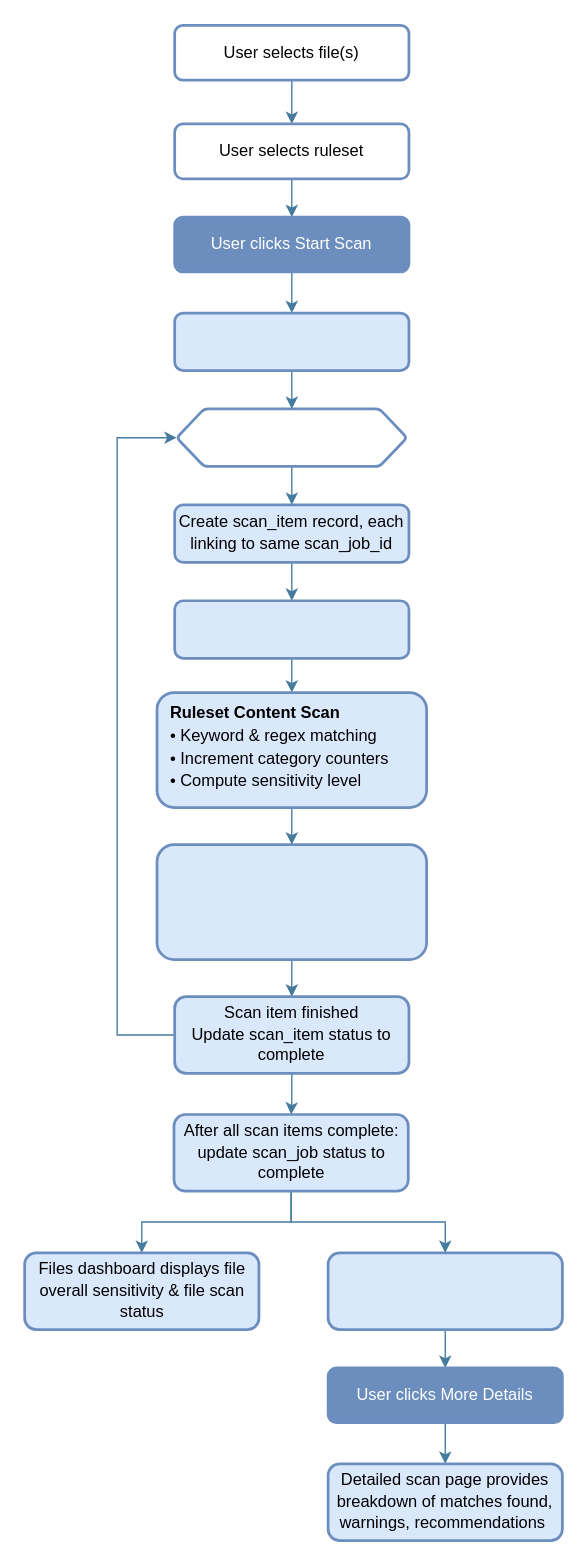
Image size: 588x1565. Some labels were removed from this diagram. Each missing label, with the box of its shape:
Create scan_job record: (173, 311, 410, 371)
Fetch file content via Microsoft Graph API: (173, 599, 410, 659)
File Organisation Scan • Duplicate hash • Naming convention • Folder structure: (155, 843, 427, 960)
For each selected file (loop): (175, 407, 408, 467)
Scans dashboard displays scan ID, name & status: (326, 1251, 563, 1330)
